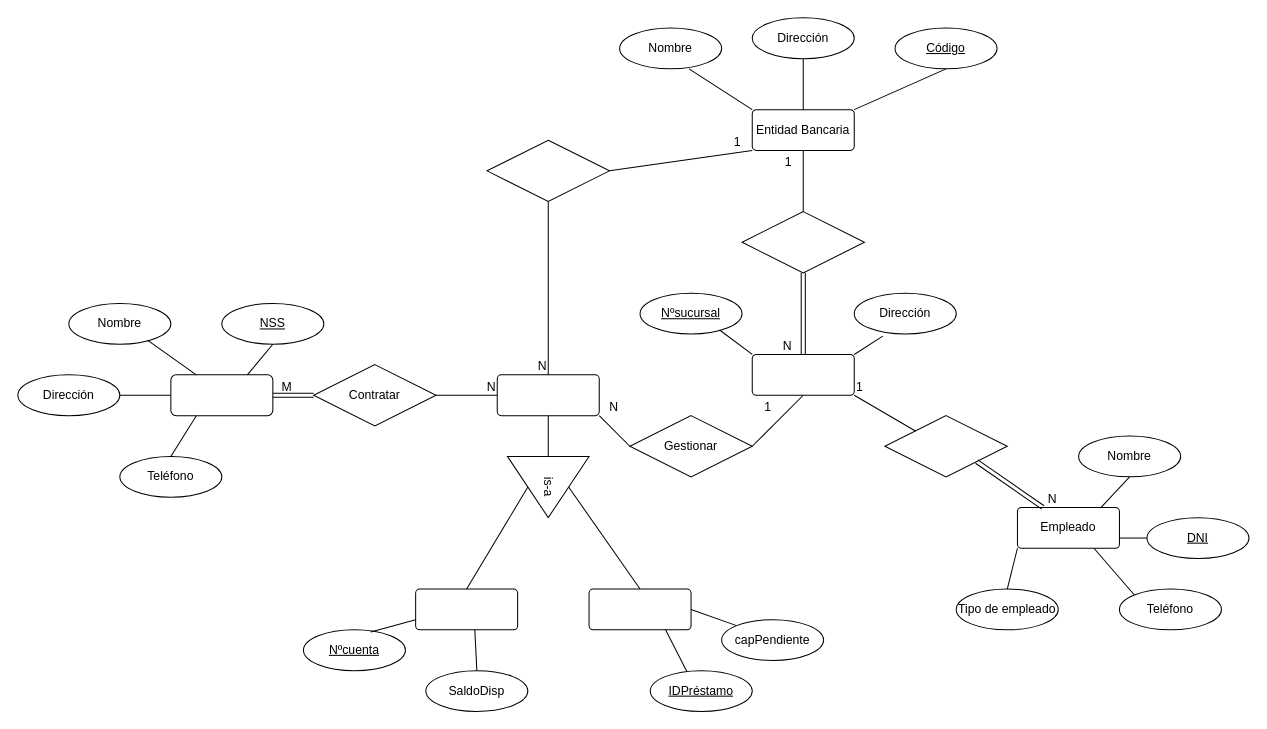
Some shapes in this 1267 by 729 pixel diagram are drawn without their labels. Here are the shapes that lost their labels. From the top down, the box of each, then its label:
(486, 139, 609, 201): Ofrecer
(741, 211, 864, 273): Pertenecer
(751, 353, 854, 395): Sucursal
(170, 374, 273, 416): Cliente
(496, 374, 599, 416): Producto
(884, 415, 1007, 477): Trabajar
(415, 588, 518, 630): Cuenta
(588, 588, 691, 630): Préstamo
